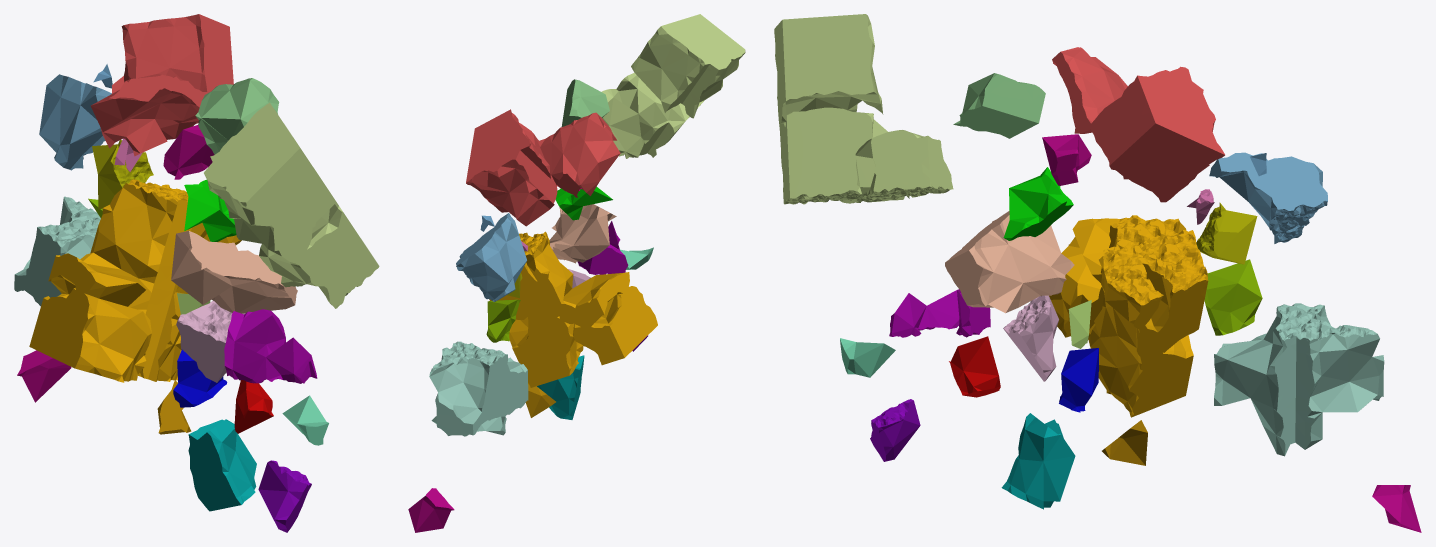
The model's file is fractured_2_28pcs_transformed.glb.
The picture shows the model from 3 angles, left to right: view 1: azimuth 30°, elevation 25°; view 2: azimuth 150°, elevation 25°; view 3: azimuth 270°, elevation 25°; orthographic projection. The views are drawn at different scales.
Visible parts, largest first — view 1: piece_0.obj, piece_5.obj, piece_1.obj, piece_7.obj, piece_12.obj, piece_13.obj, piece_2.obj, piece_4.obj, piece_3.obj, piece_6.obj, piece_16.obj, piece_8.obj (+8 smaller); view 2: piece_0.obj, piece_5.obj, piece_1.obj, piece_4.obj, piece_2.obj, piece_7.obj, piece_3.obj, piece_13.obj, piece_19.obj, piece_12.obj, piece_14.obj, piece_8.obj (+2 smaller); view 3: piece_5.obj, piece_0.obj, piece_4.obj, piece_1.obj, piece_7.obj, piece_2.obj, piece_13.obj, piece_3.obj, piece_14.obj, piece_12.obj, piece_8.obj, piece_6.obj (+9 smaller).
Part boxes in pixels (left/top/right/bottom): piece_0.obj: left=29, top=179, right=241, bottom=382; piece_5.obj: left=204, top=102, right=379, bottom=308; piece_1.obj: left=91, top=14, right=233, bottom=156; piece_7.obj: left=171, top=231, right=297, bottom=313; piece_12.obj: left=224, top=309, right=317, bottom=383; piece_13.obj: left=188, top=419, right=256, bottom=511; piece_2.obj: left=39, top=74, right=111, bottom=170; piece_4.obj: left=14, top=196, right=100, bottom=306; piece_3.obj: left=195, top=78, right=279, bottom=154; piece_6.obj: left=176, top=300, right=245, bottom=382; piece_16.obj: left=258, top=460, right=311, bottom=532; piece_8.obj: left=184, top=179, right=236, bottom=241; piece_0.obj: left=489, top=231, right=657, bottom=387; piece_5.obj: left=601, top=14, right=745, bottom=158; piece_1.obj: left=466, top=109, right=620, bottom=226; piece_4.obj: left=429, top=341, right=528, bottom=436; piece_2.obj: left=456, top=213, right=526, bottom=301; piece_7.obj: left=549, top=204, right=616, bottom=263; piece_3.obj: left=561, top=79, right=609, bottom=126; piece_13.obj: left=537, top=355, right=584, bottom=419; piece_19.obj: left=408, top=488, right=454, bottom=532; piece_12.obj: left=577, top=221, right=628, bottom=274; piece_14.obj: left=486, top=299, right=520, bottom=342; piece_8.obj: left=555, top=186, right=612, bottom=220; piece_5.obj: left=774, top=14, right=953, bottom=204; piece_0.obj: left=1049, top=215, right=1208, bottom=417; piece_4.obj: left=1214, top=303, right=1384, bottom=456; piece_1.obj: left=1052, top=47, right=1224, bottom=202; piece_7.obj: left=945, top=211, right=1074, bottom=313; piece_2.obj: left=1209, top=152, right=1327, bottom=243; piece_13.obj: left=1001, top=413, right=1075, bottom=509; piece_3.obj: left=953, top=73, right=1045, bottom=138; piece_14.obj: left=1204, top=259, right=1262, bottom=335; piece_12.obj: left=889, top=289, right=990, bottom=337; piece_8.obj: left=1003, top=167, right=1073, bottom=240; piece_6.obj: left=1003, top=295, right=1058, bottom=381.
Size of the model in its own units: 1.03 by 2.35 by 2.79.
